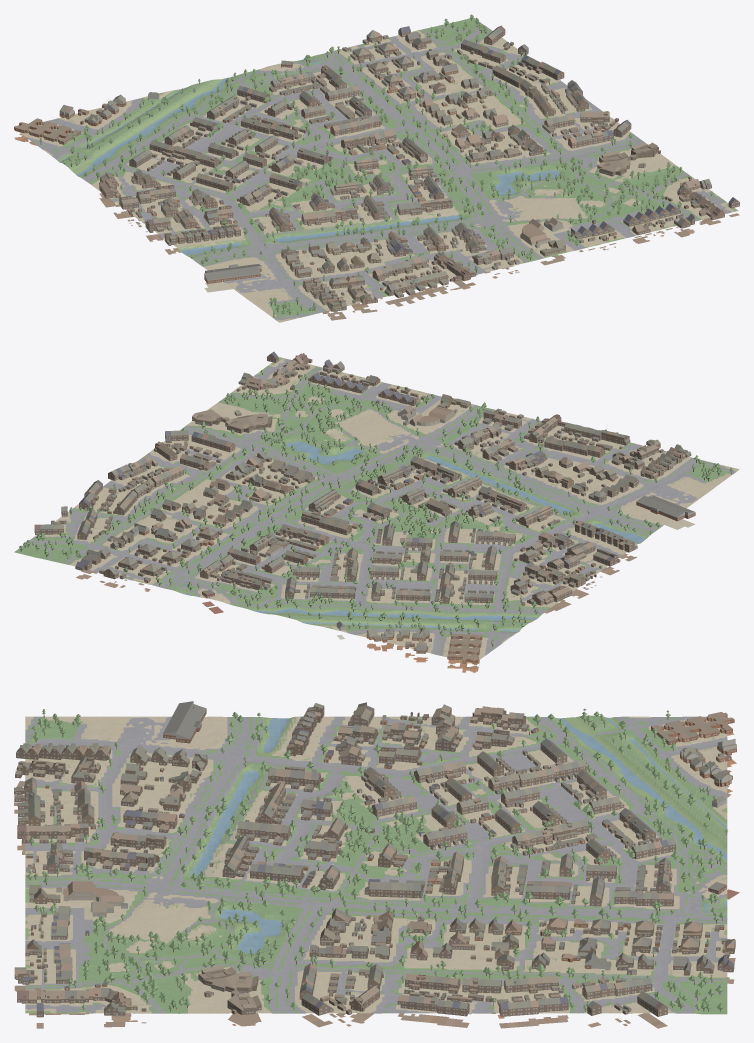
Rendered from bosven-veghel_x333_y808.glb.
3 renders of one model, top to bottom at view 1: azimuth 30°, elevation 25°; view 2: azimuth 150°, elevation 25°; view 3: azimuth 270°, elevation 25°, orthographic. The views are drawn at different scales.
Visible parts, largest first — view 1: class:wall, class:road, class:roof, class:sand, class:green, class:tree, class:grass, class:trim, class:water, class:trunk; view 2: class:road, class:wall, class:roof, class:sand, class:green, class:tree, class:trim, class:grass, class:water, class:trunk; view 3: class:road, class:roof, class:wall, class:sand, class:green, class:tree, class:grass, class:trim, class:water, class:trunk.
Part boxes in pixels (x1=…): class:wall: x1=14, y1=28, x2=739, y2=320; class:road: x1=26, y1=26, x2=731, y2=320; class:roof: x1=14, y1=25, x2=734, y2=309; class:sand: x1=20, y1=30, x2=734, y2=322; class:green: x1=32, y1=17, x2=726, y2=319; class:tree: x1=39, y1=14, x2=713, y2=314; class:grass: x1=19, y1=18, x2=738, y2=318; class:trim: x1=14, y1=30, x2=739, y2=310; class:water: x1=59, y1=59, x2=560, y2=255; class:trunk: x1=40, y1=19, x2=711, y2=317; class:road: x1=29, y1=359, x2=736, y2=656; class:wall: x1=34, y1=353, x2=695, y2=672; class:roof: x1=35, y1=352, x2=694, y2=661; class:sand: x1=34, y1=358, x2=739, y2=663; class:green: x1=14, y1=365, x2=732, y2=653; class:tree: x1=19, y1=370, x2=732, y2=644; class:trim: x1=36, y1=356, x2=694, y2=662; class:grass: x1=15, y1=357, x2=726, y2=661; class:water: x1=180, y1=441, x2=645, y2=631; class:trunk: x1=20, y1=373, x2=731, y2=646; class:road: x1=25, y1=716, x2=727, y2=1013; class:roof: x1=14, y1=701, x2=736, y2=1012; class:wall: x1=14, y1=701, x2=739, y2=1028; class:sand: x1=25, y1=716, x2=727, y2=1013; class:green: x1=25, y1=715, x2=727, y2=1014; class:tree: x1=26, y1=708, x2=727, y2=1009; class:grass: x1=25, y1=716, x2=727, y2=1014; class:trim: x1=16, y1=705, x2=735, y2=1016; class:water: x1=191, y1=717, x2=727, y2=954; class:trunk: x1=29, y1=715, x2=726, y2=1011.
Bounding box in the file's own units: 521 × 19.37 × 517.
